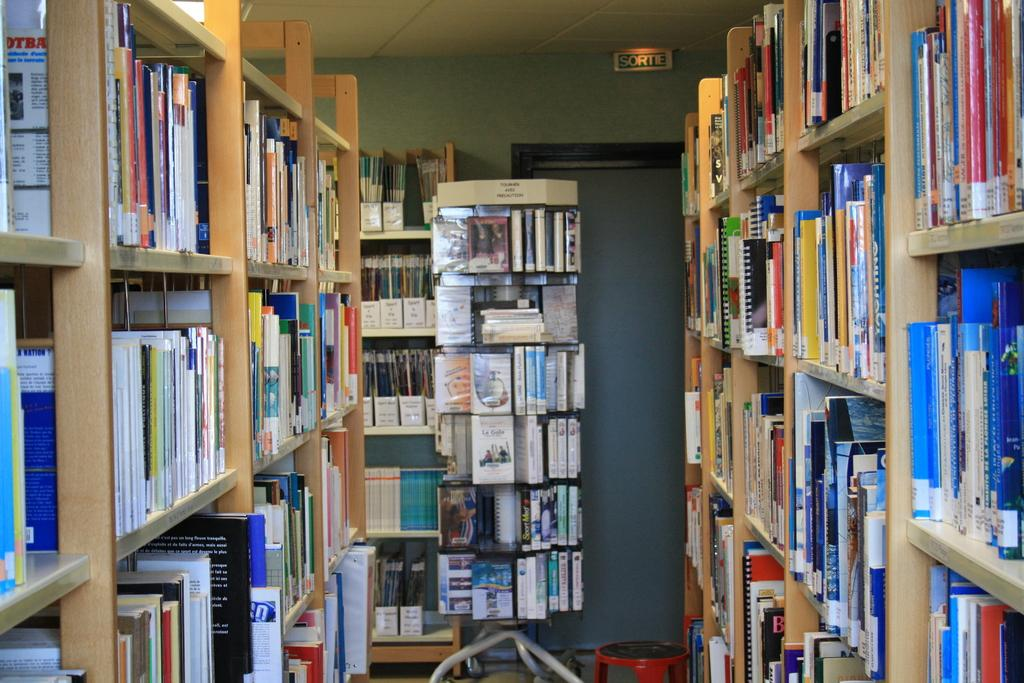Book: (0, 0, 588, 682), (900, 266, 1023, 570), (783, 391, 890, 681), (673, 145, 728, 682), (905, 0, 1023, 231), (788, 154, 885, 379), (918, 566, 1023, 682), (797, 0, 880, 142), (726, 187, 787, 362), (729, 0, 785, 188), (831, 162, 871, 373), (735, 395, 781, 548), (696, 216, 726, 342)
